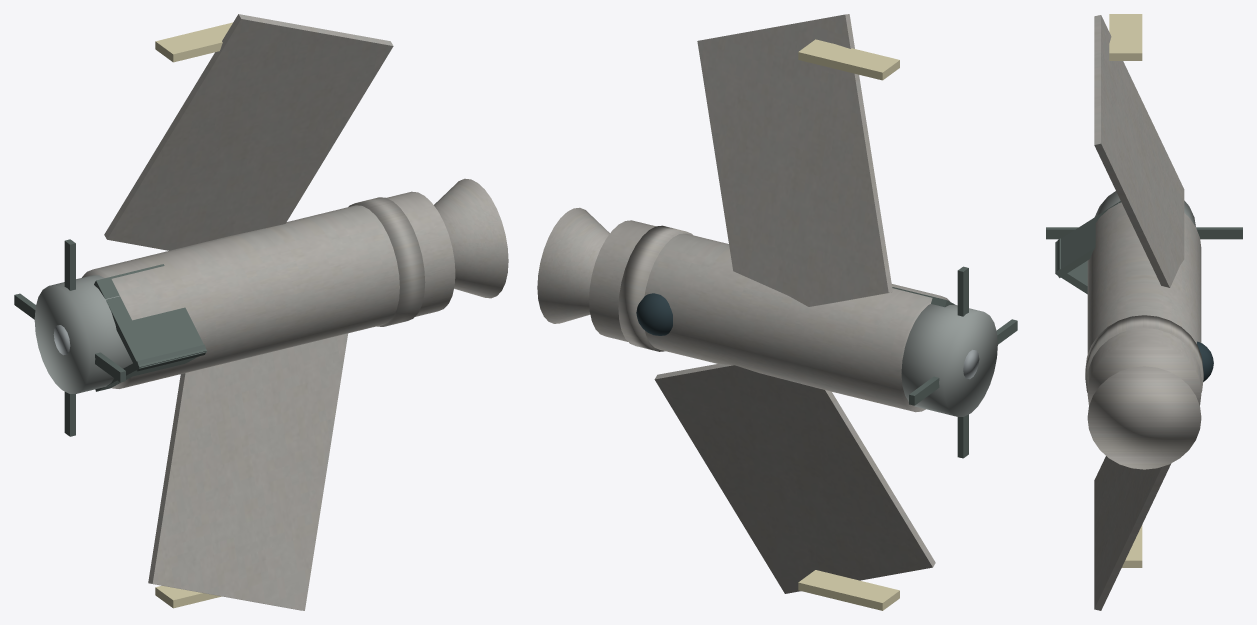
The model's file is shahed136.glb.
3 views of the same model, side by side, from view 1: azimuth 30°, elevation 25°; view 2: azimuth 150°, elevation 25°; view 3: azimuth 270°, elevation 25° (orthographic). The views are drawn at different scales.
Parts seen in each view (by area): view 1: part_5, part_4, part_0, part_3, part_1, part_8, part_2, part_6, part_12, part_9, part_7, part_11; view 2: part_4, part_5, part_0, part_3, part_1, part_2, part_7, part_6, part_13, part_12, part_11; view 3: part_0, part_4, part_1, part_5, part_2, part_6, part_8, part_11, part_9, part_7, part_3, part_13.
Part boxes in pixels (bbox=[...]): part_5: bbox=[148, 333, 347, 610]; part_4: bbox=[104, 14, 393, 250]; part_0: bbox=[82, 191, 455, 388]; part_3: bbox=[34, 275, 132, 393]; part_1: bbox=[434, 178, 508, 298]; part_8: bbox=[94, 264, 206, 371]; part_2: bbox=[348, 197, 425, 326]; part_6: bbox=[155, 22, 232, 62]; part_12: bbox=[64, 239, 75, 436]; part_9: bbox=[95, 344, 206, 391]; part_7: bbox=[155, 585, 221, 608]; part_11: bbox=[14, 293, 125, 382]; part_4: bbox=[697, 14, 892, 306]; part_5: bbox=[654, 363, 935, 593]; part_0: bbox=[589, 220, 950, 412]; part_3: bbox=[901, 304, 997, 416]; part_1: bbox=[537, 207, 609, 323]; part_2: bbox=[618, 225, 692, 351]; part_7: bbox=[798, 570, 899, 610]; part_6: bbox=[798, 39, 899, 80]; part_13: bbox=[636, 293, 672, 335]; part_12: bbox=[957, 266, 968, 458]; part_11: bbox=[909, 319, 1017, 405]; part_0: bbox=[1087, 202, 1201, 405]; part_4: bbox=[1094, 15, 1184, 287]; part_1: bbox=[1087, 366, 1201, 469]; part_5: bbox=[1094, 456, 1171, 610]; part_2: bbox=[1085, 315, 1203, 392]; part_6: bbox=[1109, 14, 1142, 60]; part_8: bbox=[1055, 201, 1120, 277]; part_11: bbox=[1046, 227, 1242, 239]; part_9: bbox=[1055, 238, 1087, 294]; part_7: bbox=[1122, 525, 1142, 567]; part_3: bbox=[1095, 191, 1195, 226]; part_13: bbox=[1197, 341, 1213, 381].
Bounding box in the file's own units: 4.31 × 6.05 × 1.9.
8 materials, 3 textured.
